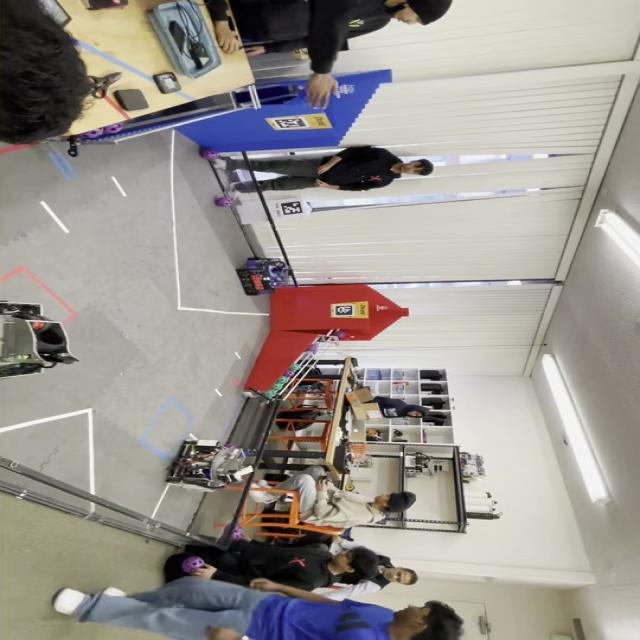artifact_purple: (182, 557, 205, 574), (81, 128, 104, 139), (200, 148, 219, 160), (105, 123, 123, 134), (215, 197, 233, 207), (232, 526, 242, 540), (306, 343, 318, 353), (334, 330, 347, 338)
